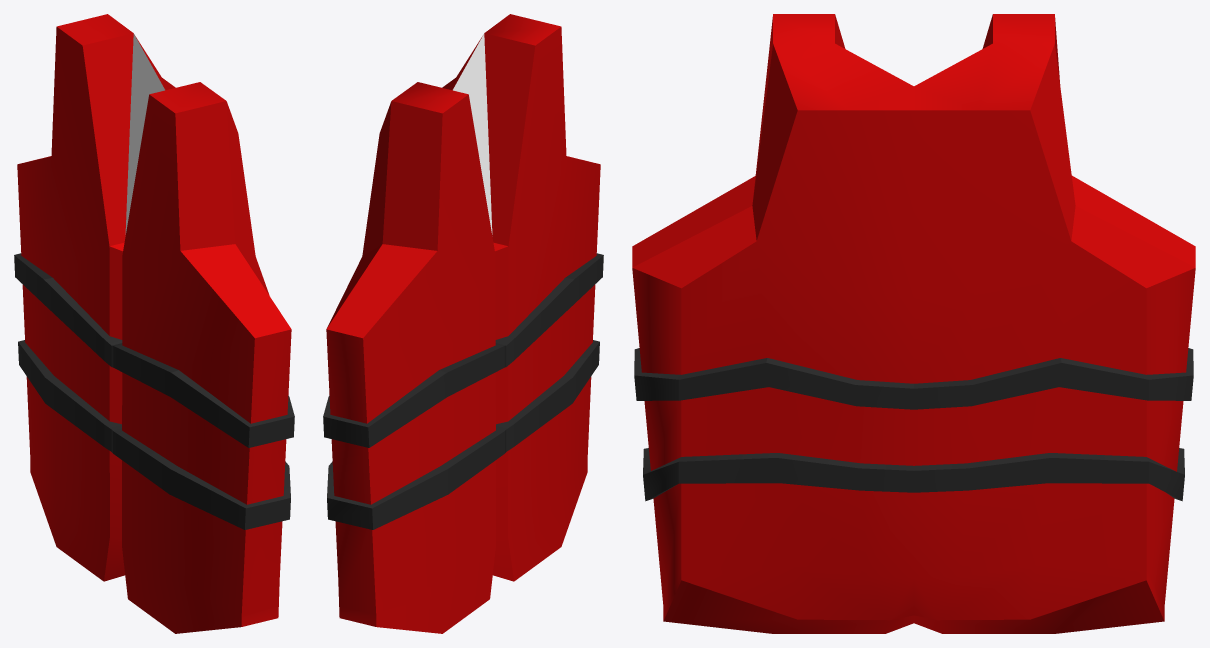
The model's file is lifevest.fbx.
The picture shows the model from 3 angles, left to right: view 1: azimuth 30°, elevation 25°; view 2: azimuth 150°, elevation 25°; view 3: azimuth 270°, elevation 25°; orthographic projection. The views are drawn at different scales.
Parts seen in each view (by area): view 1: life_jacket; view 2: life_jacket; view 3: life_jacket.
Boxes of the visible parts, x1,y1,x2,y2 form: life_jacket: [14, 14, 294, 633]; life_jacket: [323, 14, 603, 633]; life_jacket: [632, 14, 1195, 633].
Size of the model in its own units: 11.8 by 59.59 by 49.32.
